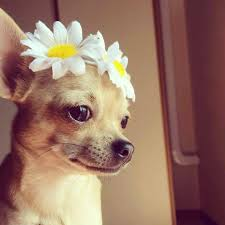chihuahua: (1, 9, 138, 224)
